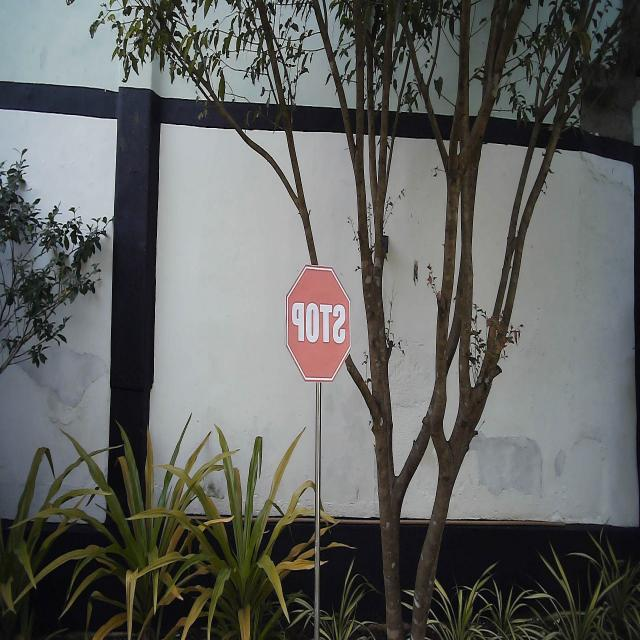stop: (282, 262, 354, 386)
